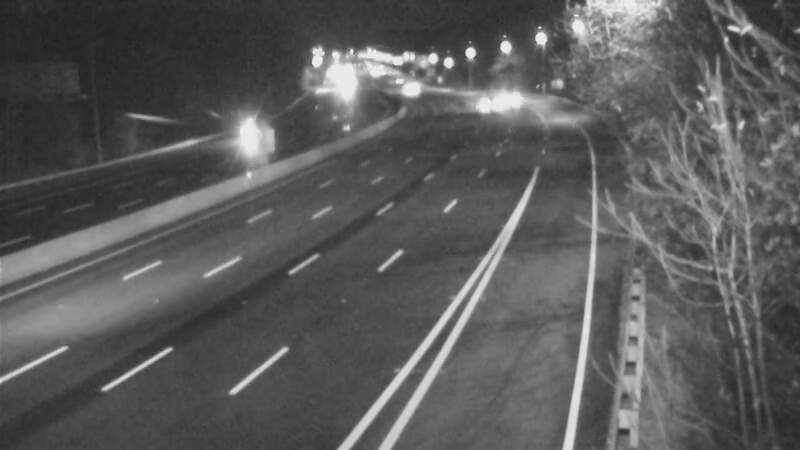vehicle: (385, 63, 435, 113), (452, 77, 502, 127), (479, 75, 529, 125), (221, 109, 271, 159)
